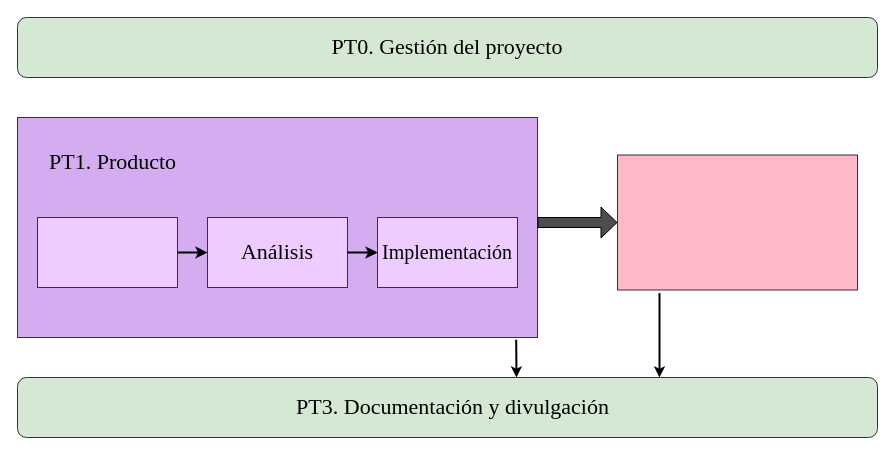
This 895x455 diagram has some shape labels left out. Here are the shapes that lost their labels. From the top down, the box of each, then its label:
(616, 154, 858, 290): PT2. Pruebas
(36, 216, 178, 288): Diseño
